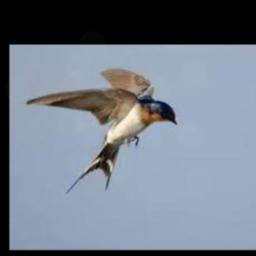Swallow: (24, 67, 176, 194)
